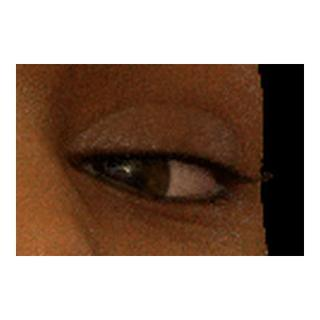pupil: (107, 157, 143, 192)
